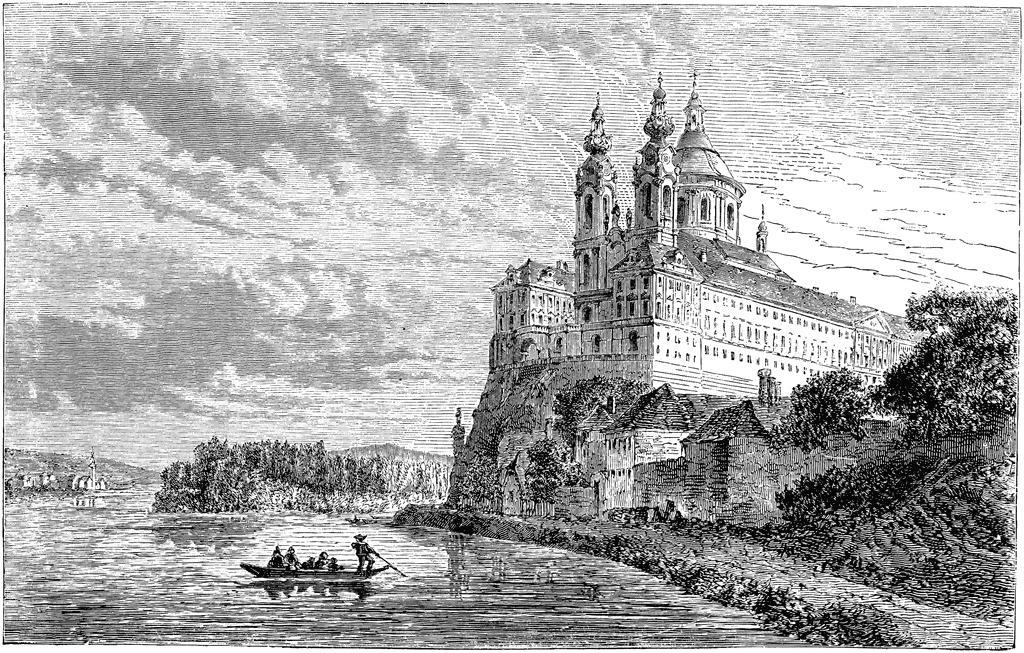boat: (238, 562, 391, 583)
person: (350, 534, 378, 572)
